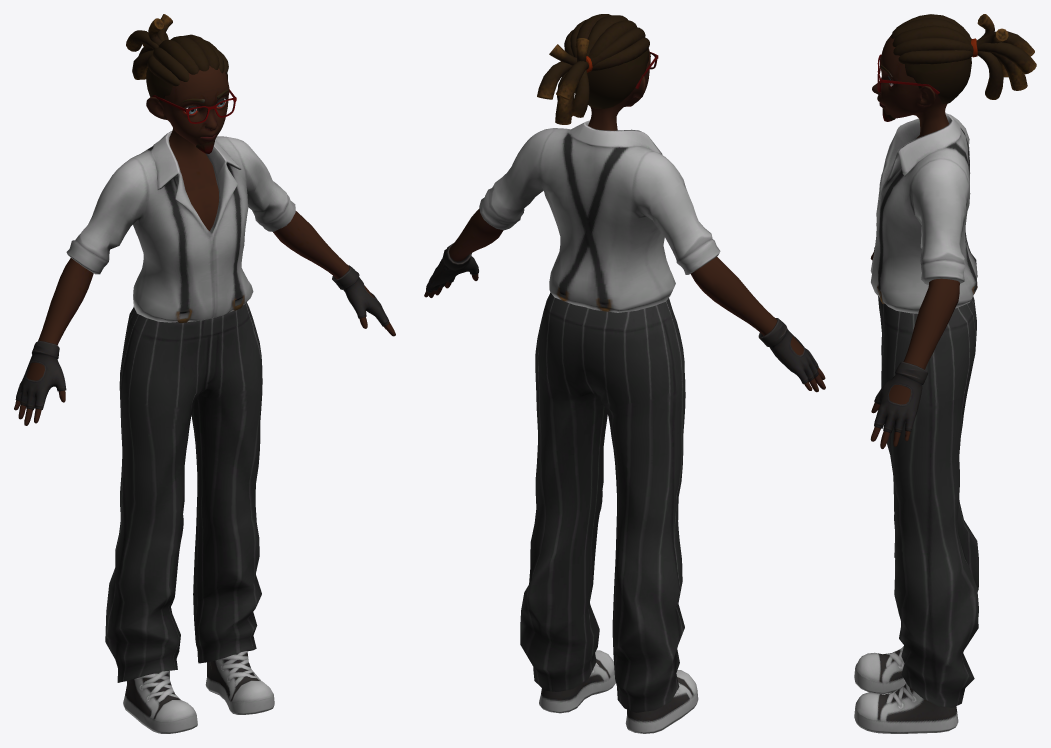
Rendered from StaffBuster_Mesh.obj.
3 renders of one model, left to right at view 1: azimuth 30°, elevation 25°; view 2: azimuth 150°, elevation 25°; view 3: azimuth 270°, elevation 25°, orthographic. The views are drawn at different scales.
Parts seen in each view (by area): view 1: StaffBuster_Mesh_0; view 2: StaffBuster_Mesh_0; view 3: StaffBuster_Mesh_0.
Part boxes in pixels (bbox=[...]): StaffBuster_Mesh_0: bbox=[14, 14, 395, 733]; StaffBuster_Mesh_0: bbox=[424, 14, 825, 733]; StaffBuster_Mesh_0: bbox=[854, 14, 1036, 733].
Size of the model in its own units: 1.06 by 1.8 by 0.4334.
Materials: 1 (1 with a texture image).
